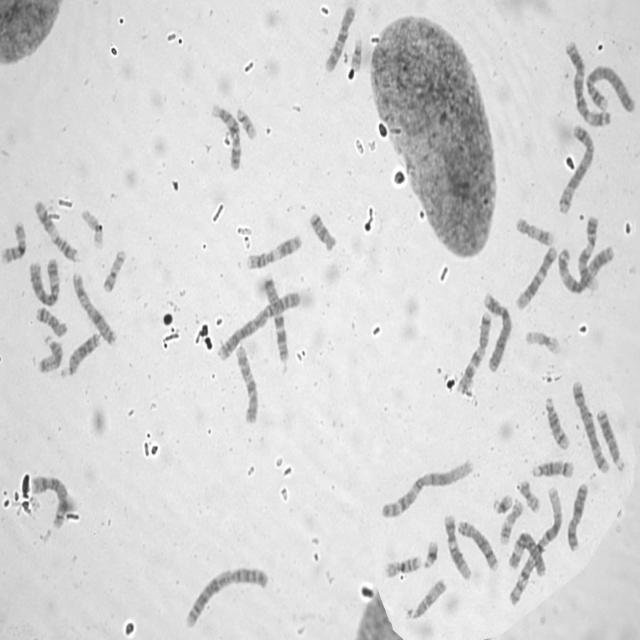A1: (506, 482, 565, 609), (378, 454, 474, 520)
A2: (214, 286, 302, 362), (182, 562, 272, 631)
A3: (564, 36, 612, 127), (555, 240, 615, 294)
B4: (582, 62, 636, 114), (480, 289, 513, 373)
B5: (571, 376, 611, 475), (556, 121, 595, 216)
C10: (323, 1, 357, 74), (234, 342, 260, 426)
C11: (31, 195, 82, 263), (243, 230, 304, 270)
C12: (513, 242, 559, 312), (442, 510, 472, 581)
C6: (507, 529, 548, 578), (28, 254, 62, 307)
C7: (454, 307, 492, 393), (259, 271, 290, 364)
C8: (455, 516, 500, 573), (30, 472, 70, 530)
C9: (208, 100, 243, 172), (577, 212, 600, 292)
D13: (594, 404, 627, 474), (59, 328, 102, 381)
D14: (542, 392, 572, 451), (529, 455, 576, 480)
D15: (405, 574, 448, 622), (36, 332, 64, 375)
E16: (0, 216, 28, 266), (382, 550, 423, 579)
E17: (513, 212, 556, 247), (497, 496, 524, 546)
E18: (307, 207, 338, 252), (34, 303, 68, 338)
F19: (79, 204, 105, 250), (523, 326, 562, 356)
F20: (100, 245, 128, 294), (516, 475, 542, 513)
G21: (421, 536, 440, 570), (490, 490, 514, 515)
G22: (234, 103, 259, 141), (349, 36, 363, 72)
X: (70, 268, 119, 348), (565, 478, 590, 552)
